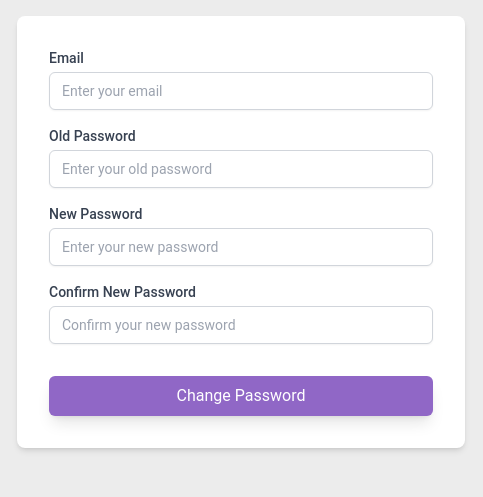
it: ChangePasswordForm suite tests › should allow users to change password with correct credentials
The image size is (483, 497).
Type "test@example.com" into the field with placeholder "Enter your email" at (241, 91), box [49, 72, 433, 110]
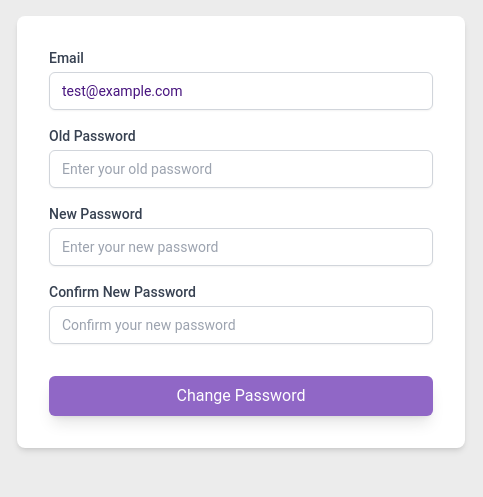
Type "OldPassword1!" into the password field with placeholder "Enter your old password" at (241, 169), box [49, 150, 433, 188]
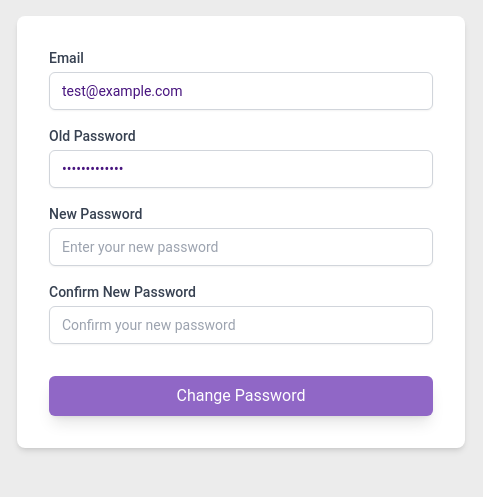
Type "NewPassword1!" into the password field with placeholder "Enter your new password" at (241, 247), box [49, 228, 433, 266]
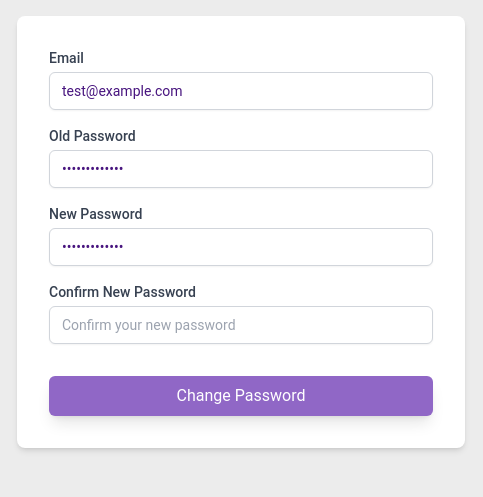
Type "NewPassword1!" into the password field with placeholder "Confirm your new password" at (241, 325), box [49, 306, 433, 344]
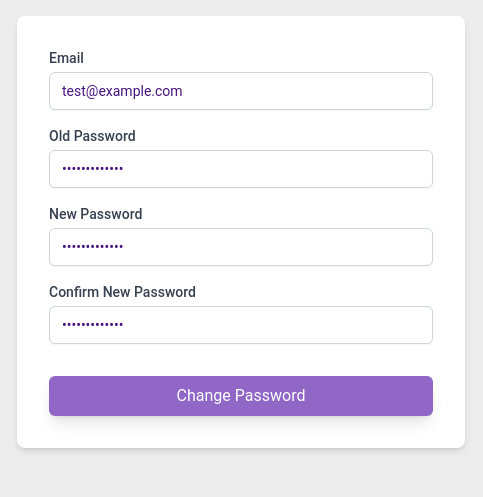
Click the button "Change Password" at (241, 396), box [49, 376, 433, 416]
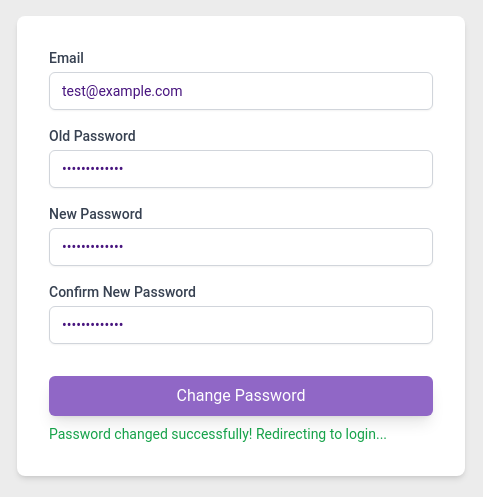
Check: the text "Password changed successfully! Redirecting to login..." is shown, box [49, 424, 433, 444]
